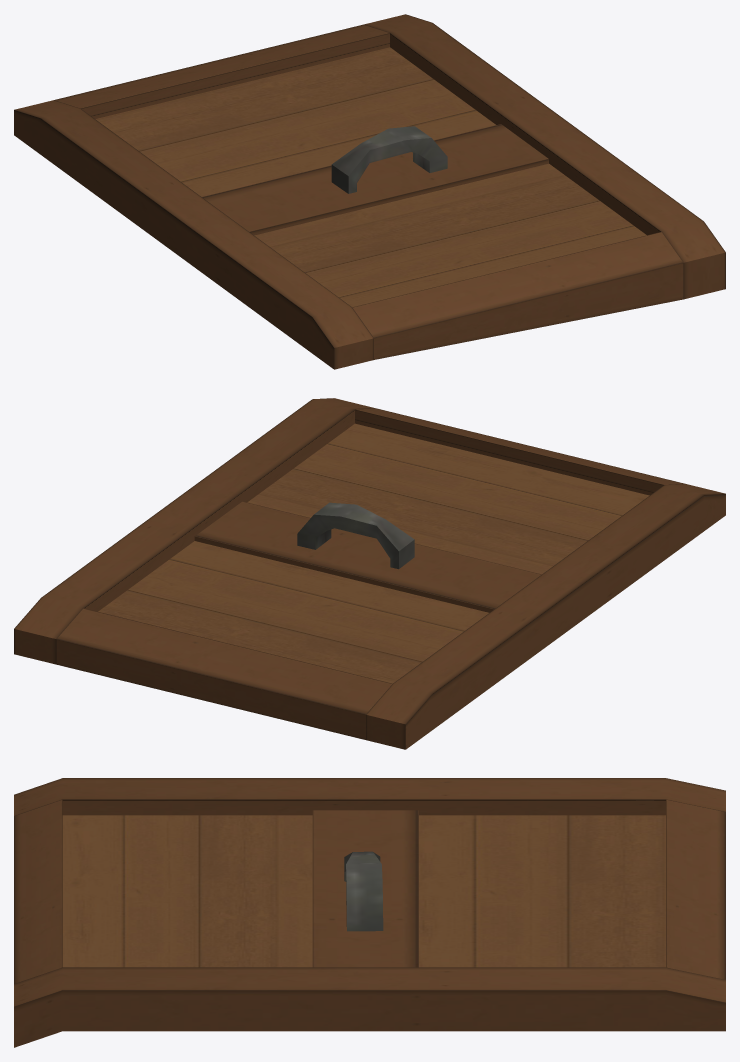
Rendered from Hatch.fbx.
The picture shows the model from 3 angles, top to bottom: view 1: azimuth 30°, elevation 25°; view 2: azimuth 150°, elevation 25°; view 3: azimuth 270°, elevation 25°; orthographic projection. The views are drawn at different scales.
Visible parts, largest first — view 1: Hatch; view 2: Hatch; view 3: Hatch.
Part boxes in pixels (x1,y1,x2,y2): Hatch: (14, 14, 725, 369); Hatch: (14, 398, 725, 749); Hatch: (14, 778, 725, 1047).
Bounding box in the file's own units: 2.4 × 0.4772 × 3.4.
